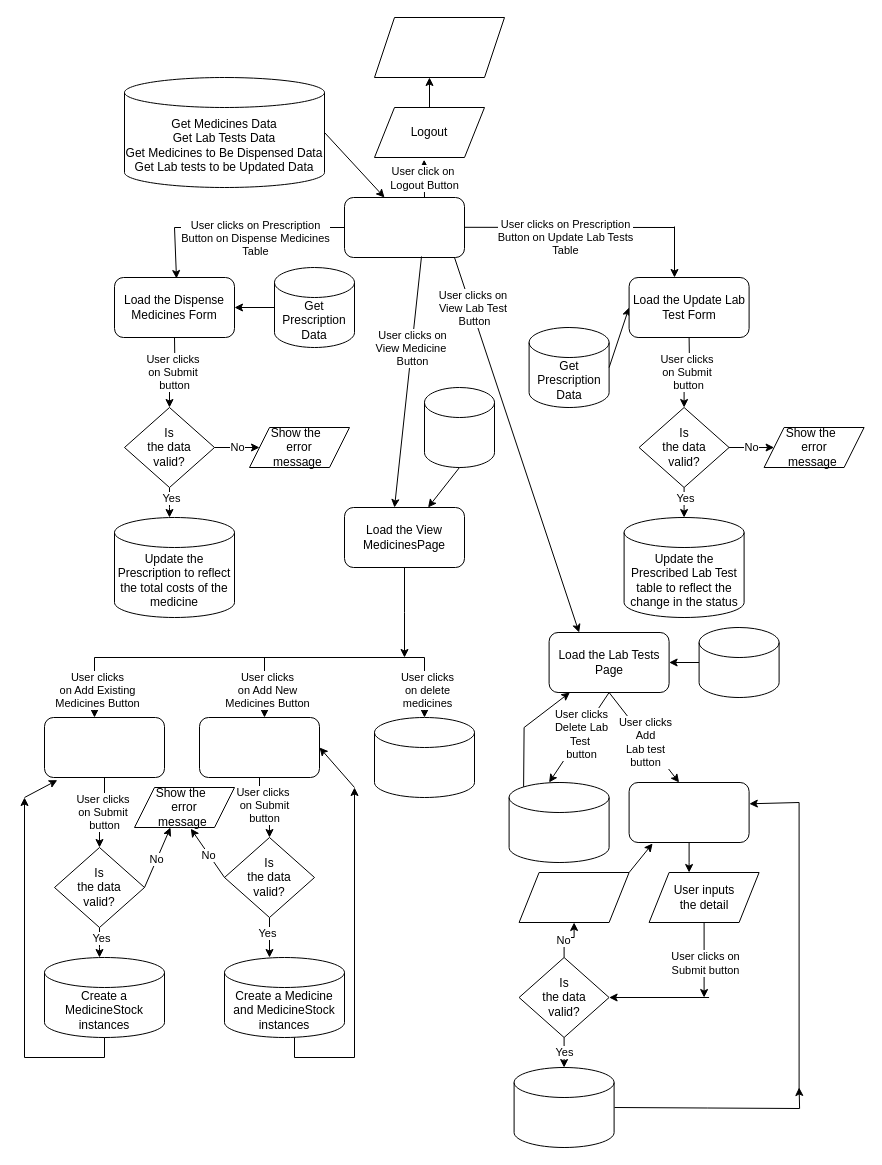
This 882x1165 diagram has some shape labels left out. The shapes that lost their labels are listed below. From the top down, each one's box as (x1, y1, x2, y2) in pixels, then its label:
(374, 16, 504, 78): Redirect user to the application home page
(344, 196, 464, 258): Load the pharmacy home page
(424, 386, 494, 468): Get Medicines Data
(698, 626, 779, 698): Get Lab Tests
(44, 716, 164, 778): Load the Add Existing Medicine Form
(198, 716, 320, 778): Load the Add New Medicine Form
(374, 716, 474, 798): Delete all the medicines that are selected
(508, 782, 609, 862): Delete all the lab tests that are selected
(628, 782, 749, 842): Load the Add Lab Test Form
(518, 872, 629, 922): Show an error message with the error
(513, 1066, 614, 1148): Add the Lab Test to the database
